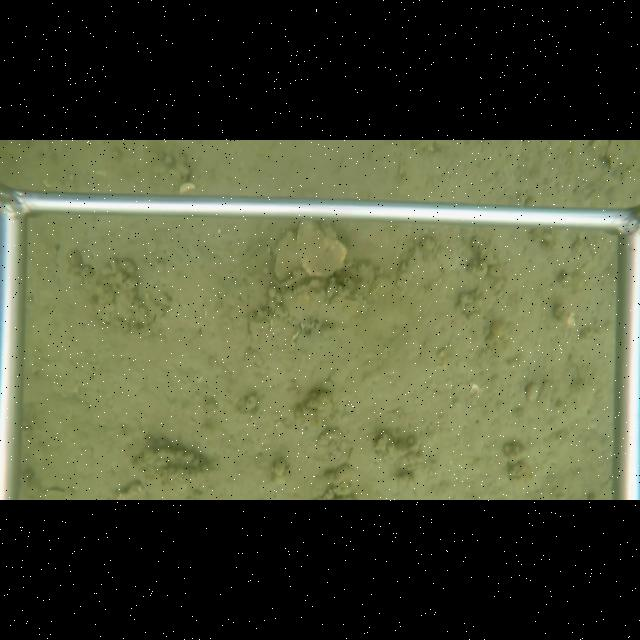Oyster-Closed: (273, 277, 376, 330), (293, 219, 350, 280), (270, 229, 304, 280)
